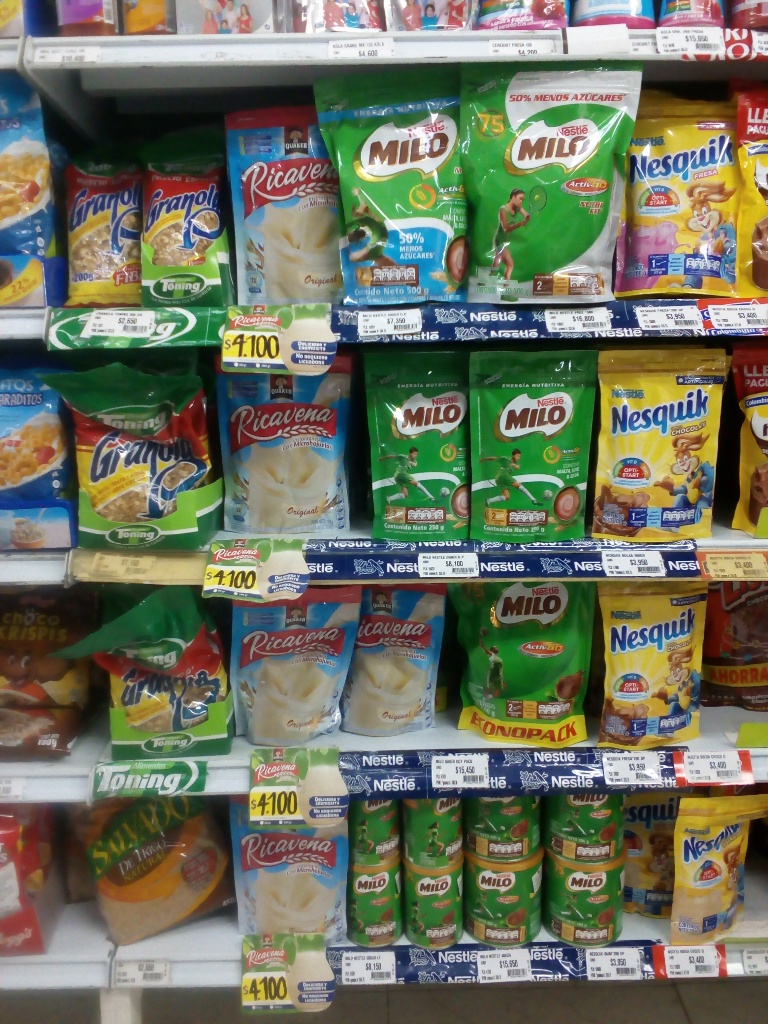COL0170203DYP25000: (361, 349, 473, 542)
COL0170203DYP50000: (445, 582, 600, 748)
COL0170203LAT20000: (350, 796, 397, 866)
COL0170203LAT40000: (470, 790, 541, 865)
COL0170205DYP50000: (318, 70, 472, 304)
COL0170303DYP20000: (598, 579, 714, 746)
COL0170305DYP20000: (619, 89, 739, 304)
COL0170306DYP20000: (671, 802, 763, 944)
